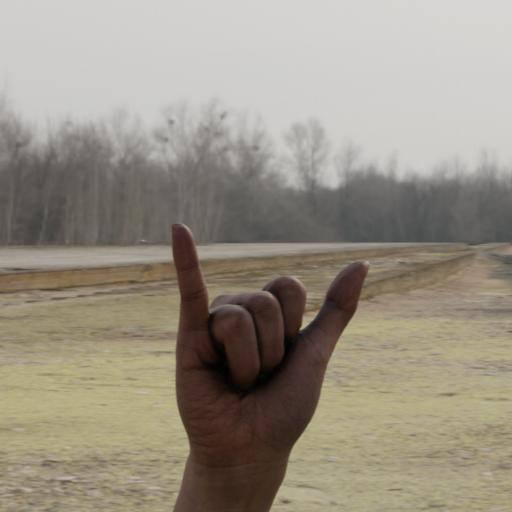Y: (142, 193, 384, 467)
